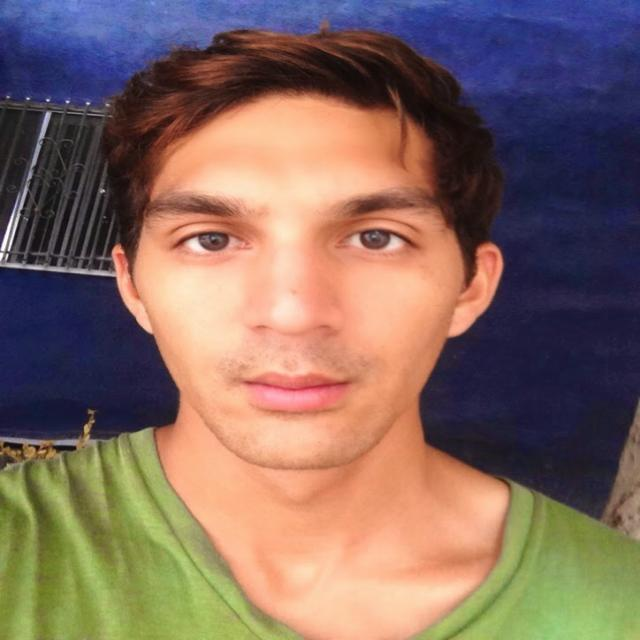earlobe: (448, 242, 503, 338), (110, 243, 156, 334)
